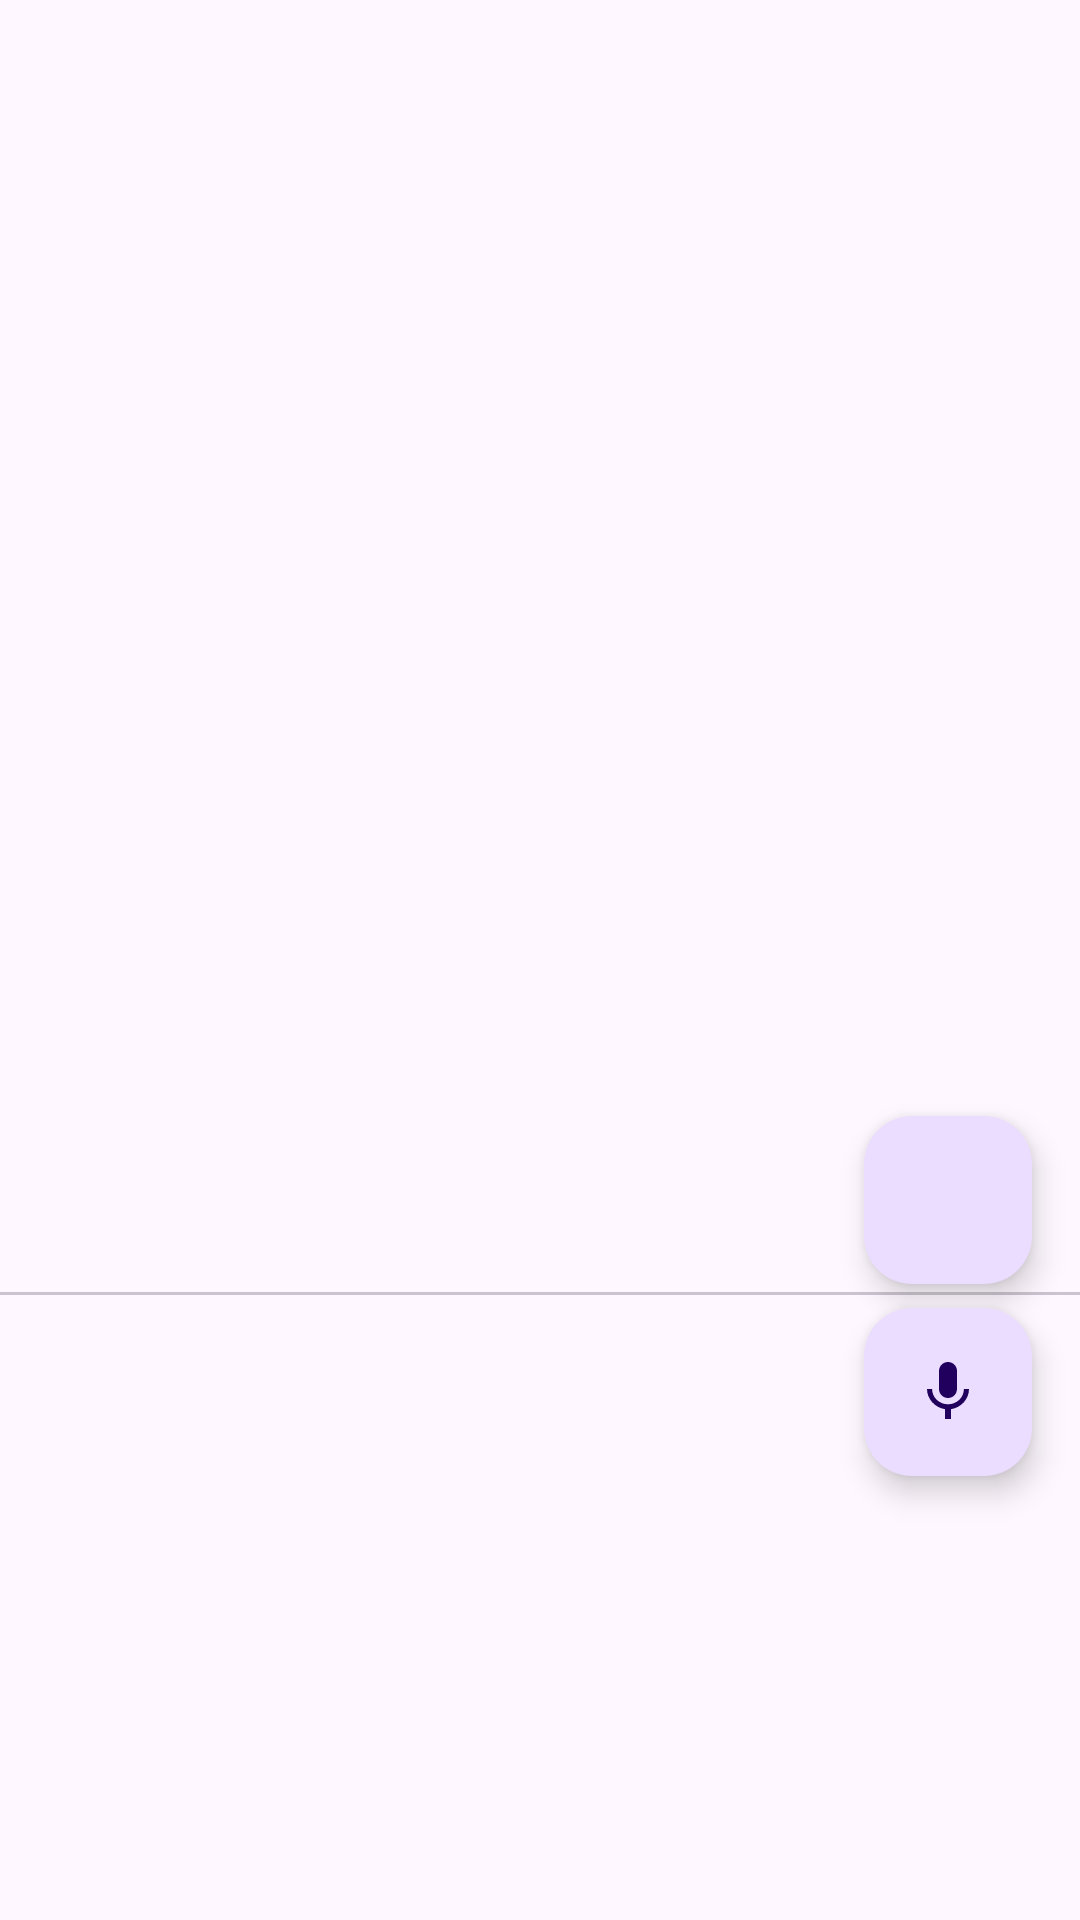

Locate icon controls on the screen. Image size 1080 × 1920, boxes as (x1, y1, x2, y2).
mic: (864, 1308, 1032, 1476)
